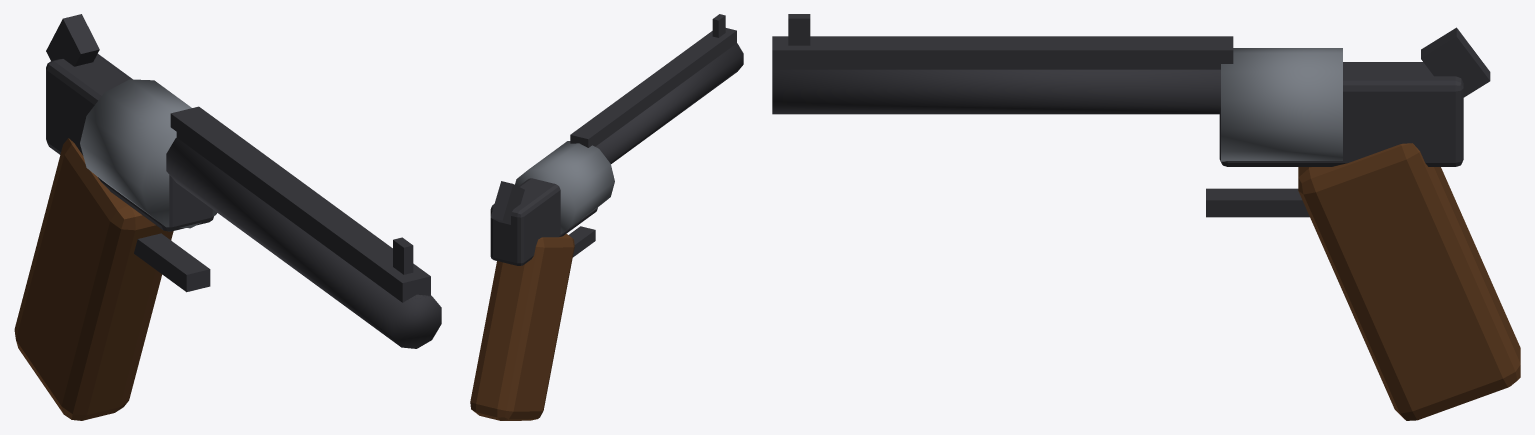
Rendered from revolver.glb.
3 renders of one model, left to right at view 1: azimuth 30°, elevation 25°; view 2: azimuth 150°, elevation 25°; view 3: azimuth 270°, elevation 25°, orthographic. The views are drawn at different scales.
Parts seen in each view (by area): view 1: revolver; view 2: revolver; view 3: revolver.
Part boxes in pixels (left/top/right/bottom): revolver: left=14, top=14, right=441, bottom=420; revolver: left=470, top=14, right=743, bottom=420; revolver: left=772, top=14, right=1520, bottom=420.
Bounding box in the file's own units: 0.042 × 0.1608 × 0.276.
